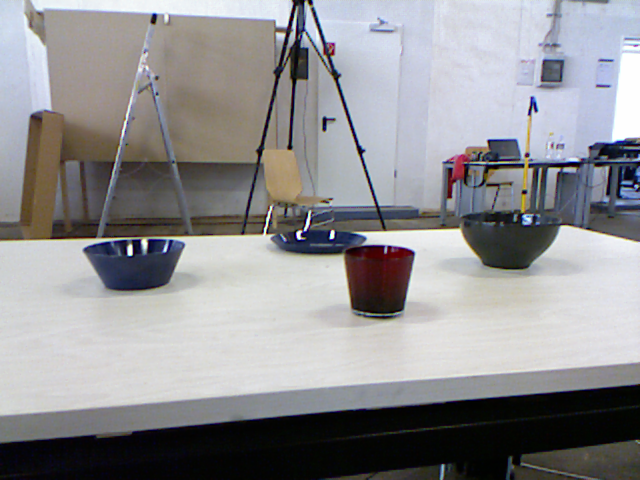bowl_bigger: (459, 212, 563, 270)
bowl_smaller: (82, 238, 186, 291)
chair: (261, 149, 336, 236)
cup: (343, 244, 415, 319)
laptop: (487, 139, 523, 161)
